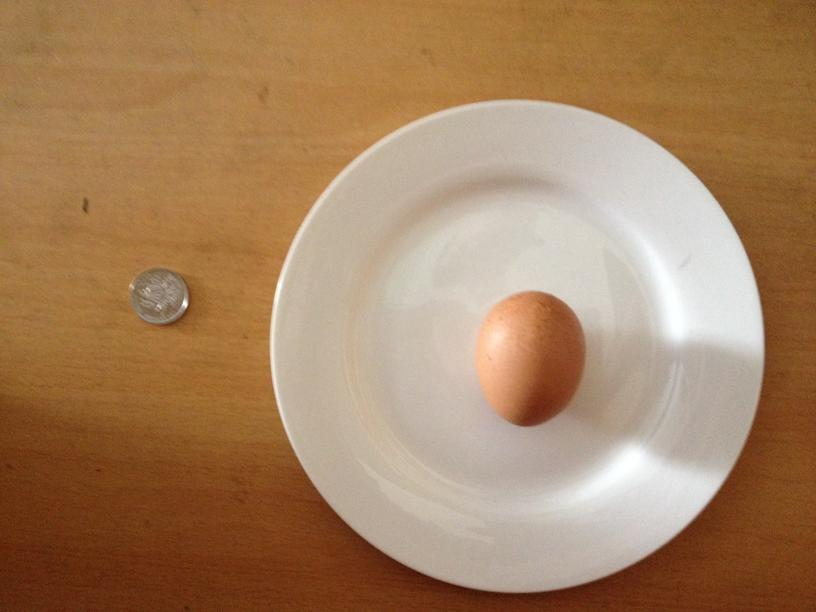coin: (129, 267, 189, 325)
egg: (477, 290, 586, 424)
